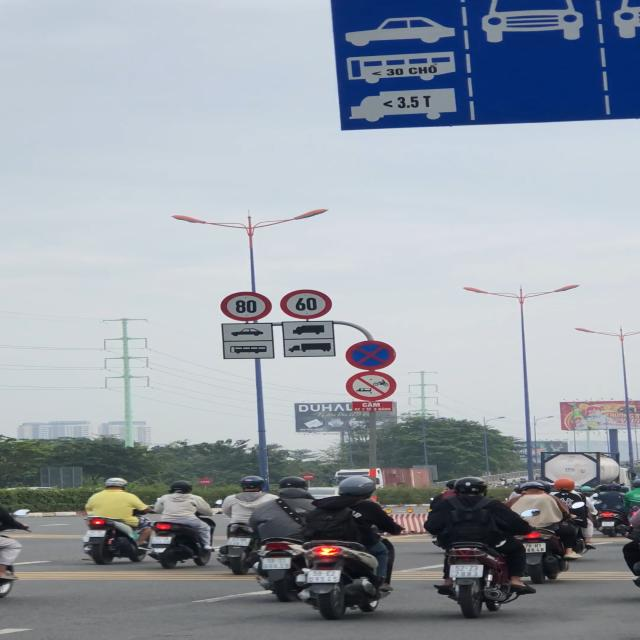Bien bao cam dung xe va do xe: (344, 340, 400, 370)
Bien bao toc do toi da cho phep: (218, 290, 276, 322), (280, 288, 331, 320)
